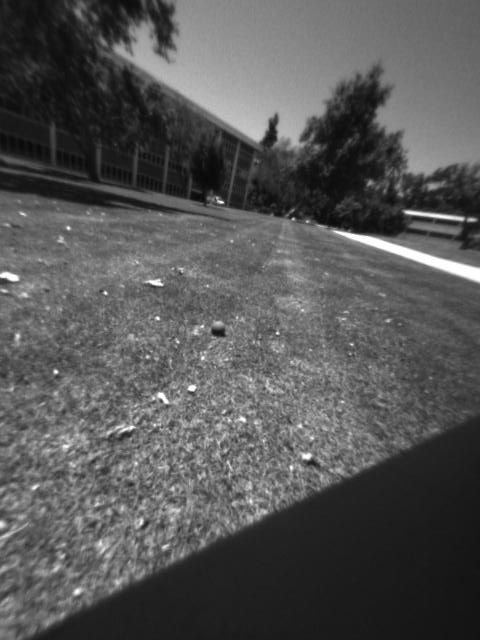dogtoy: (203, 316, 234, 340)
